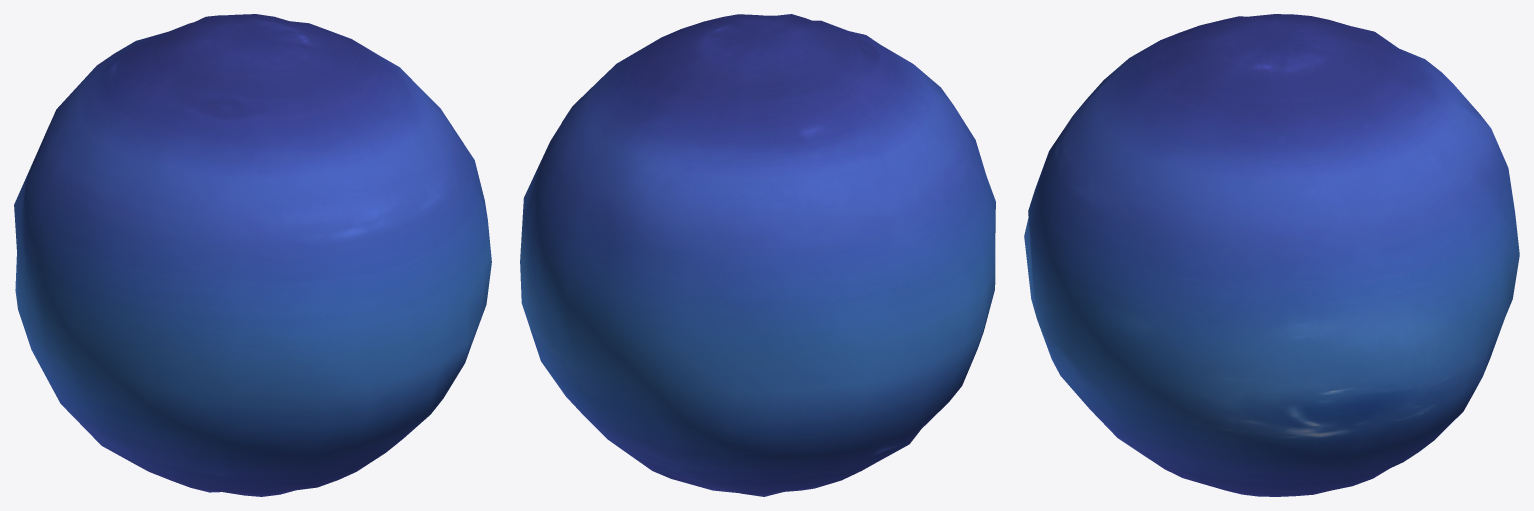
File: neptuno.gltf
3 views of the same model, side by side, from view 1: azimuth 30°, elevation 25°; view 2: azimuth 150°, elevation 25°; view 3: azimuth 270°, elevation 25° (orthographic).
Visible parts, largest first — view 1: neptuno; view 2: neptuno; view 3: neptuno.
Boxes of the visible parts, x1,y1,x2,y2 form: neptuno: (14,14,491,496); neptuno: (520,14,995,496); neptuno: (1024,14,1519,496).
Size of the model in its own units: 2.02 by 2.01 by 2.07.
1 material, 1 textured.
